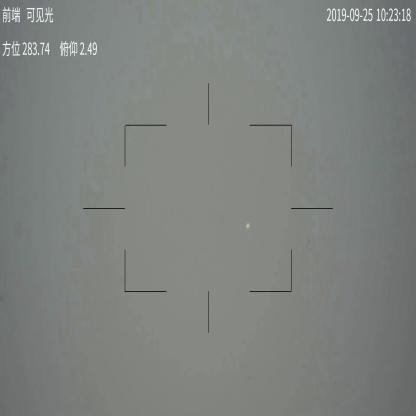uav: (244, 221, 251, 230)
